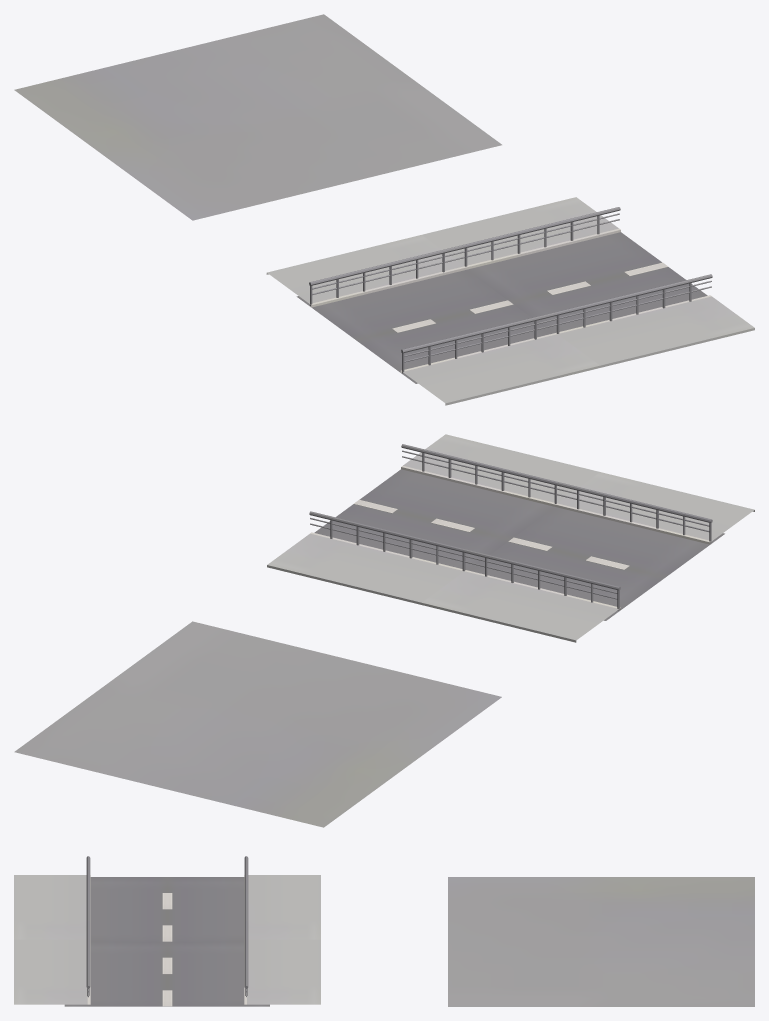
The model's file is AssetsCityAdjustments.fbx.
3 views of the same model, one above another, from view 1: azimuth 30°, elevation 25°; view 2: azimuth 150°, elevation 25°; view 3: azimuth 270°, elevation 25° (orthographic). The views are drawn at different scales.
Visible parts, largest first — view 1: Street, CityGround; view 2: Street, CityGround; view 3: Street, CityGround.
Boxes of the visible parts, x1,y1,x2,y2 form: Street: (266,197,754,405); CityGround: (14,14,501,220); Street: (267,434,754,642); CityGround: (14,621,501,827); Street: (14,856,320,1006); CityGround: (448,877,754,1006).
Bounding box in the file's own units: 16.73 × 1.25 × 40.32.
